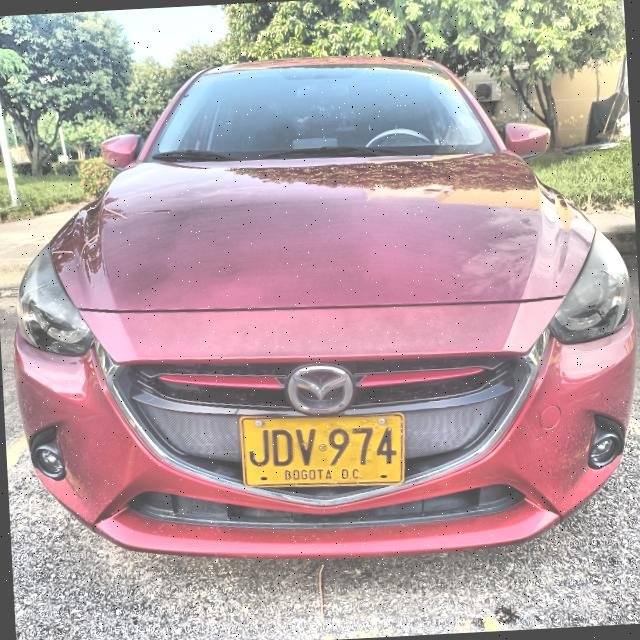plate: (241, 416, 403, 485)
